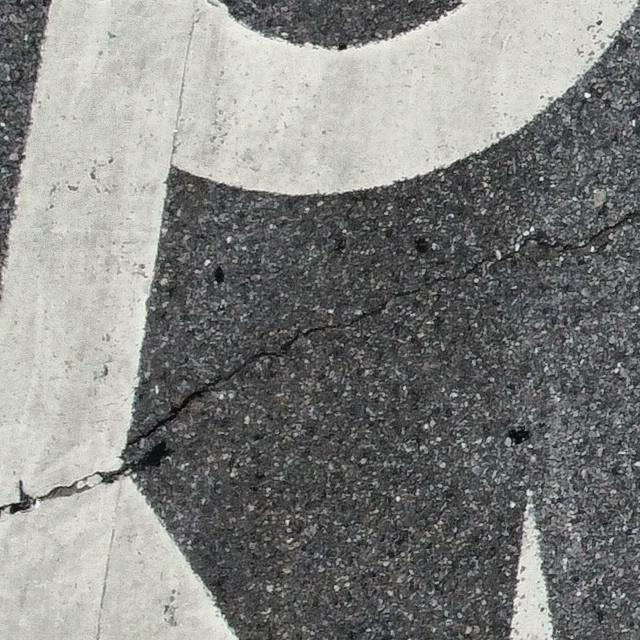TransverseCrack: (1, 208, 640, 518)
